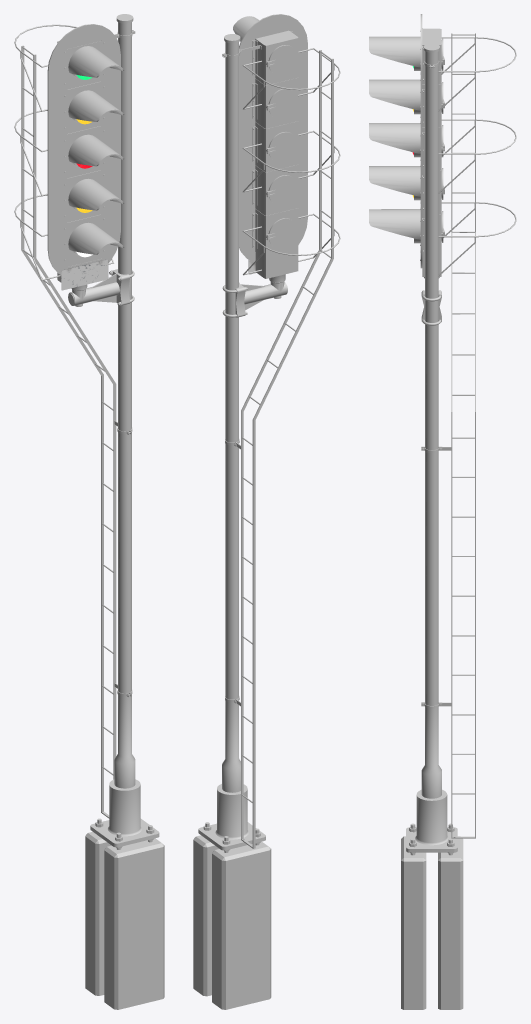
Rendered from PL5AspectYard.fbx.
3 views of the same model, side by side, from view 1: azimuth 30°, elevation 25°; view 2: azimuth 210°, elevation 25°; view 3: azimuth 270°, elevation 25° (orthographic). The views are drawn at different scales.
Visible parts, largest first — view 1: PL5AspectYard, LocationSign; view 2: PL5AspectYard; view 3: PL5AspectYard.
Part boxes in pixels (box(x1,y1,x2,y2)): PL5AspectYard: box(14, 14, 164, 1009); LocationSign: box(61, 259, 108, 290); PL5AspectYard: box(193, 14, 340, 1009); PL5AspectYard: box(369, 14, 516, 1009).
Size of the model in its own units: 88.91 by 776 by 108.
